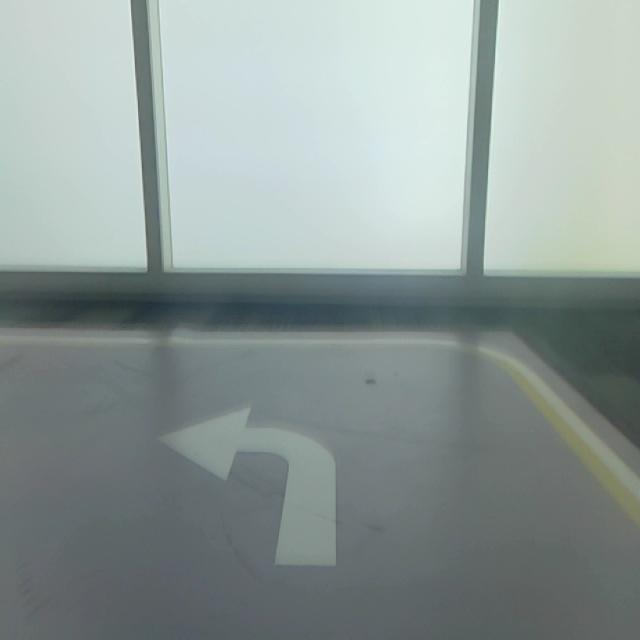right_lane: (501, 361, 640, 521)
